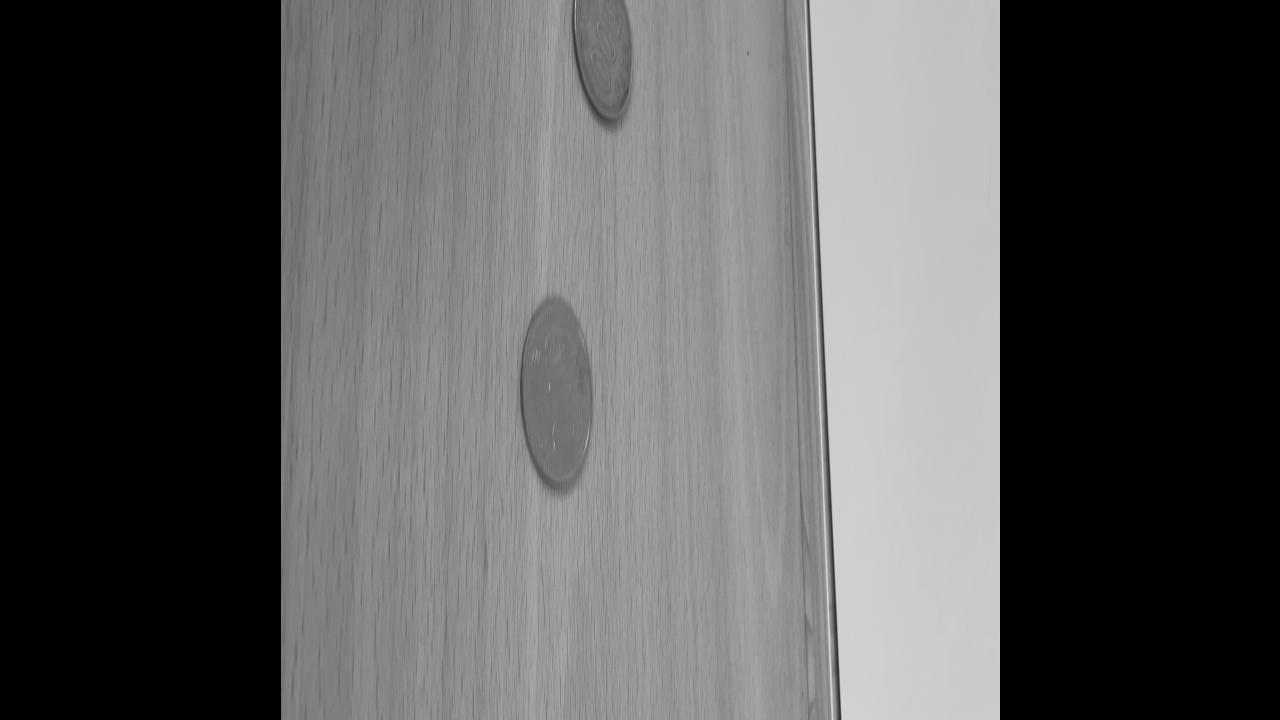coin: (518, 299, 594, 492), (569, 0, 633, 124)
